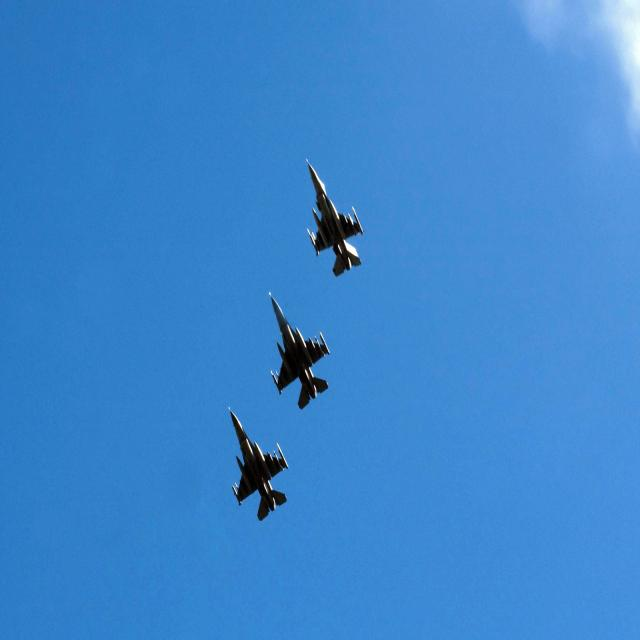MIL_Plane: (268, 291, 332, 410), (306, 158, 365, 278), (228, 406, 289, 522)
